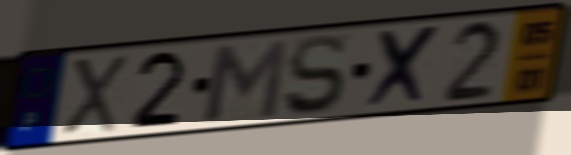2: (440, 16, 504, 104), (129, 48, 187, 132)
M: (201, 36, 291, 125)
S: (281, 31, 349, 119)
X: (364, 22, 445, 112), (59, 52, 130, 138)
